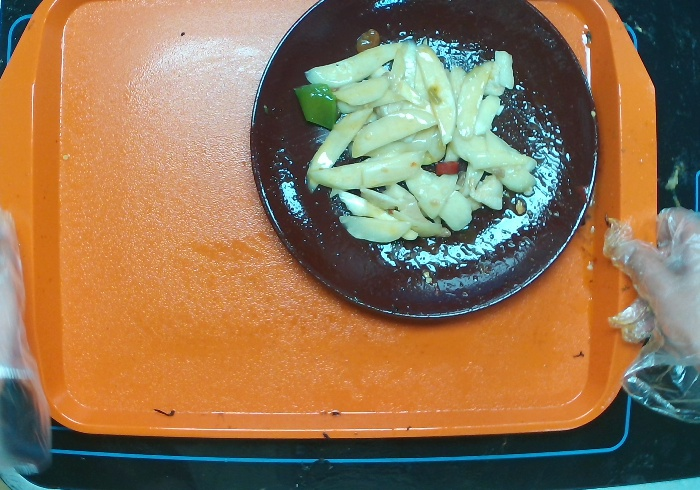HZYJPL-Ka_Fei_Yuan_Pan: (240, 1, 626, 337)
